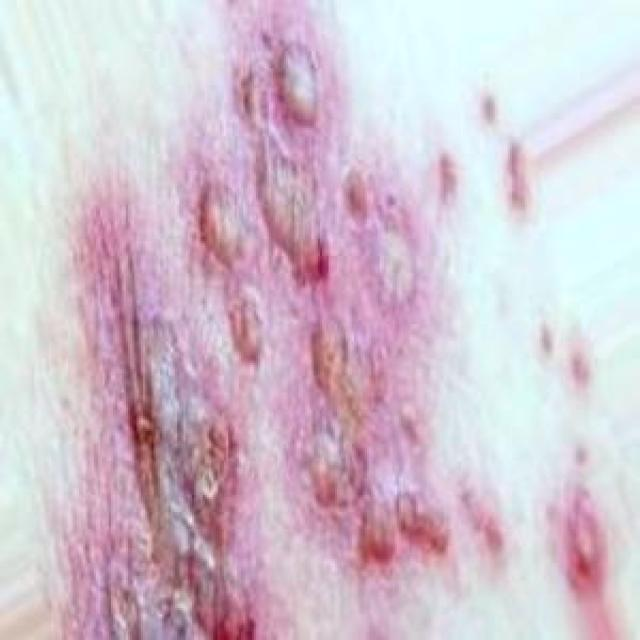Shingles: (139, 35, 450, 640)
